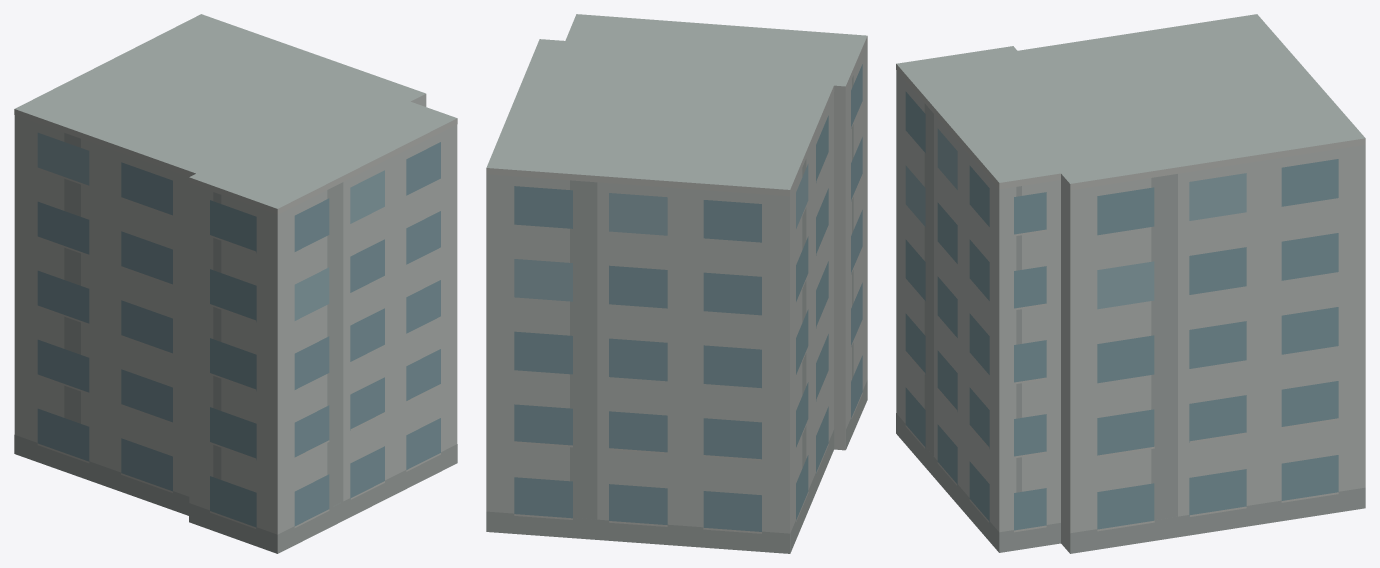
The model's file is survey-upis-32863971.glb.
The picture shows the model from 3 angles, left to right: view 1: azimuth 30°, elevation 25°; view 2: azimuth 150°, elevation 25°; view 3: azimuth 270°, elevation 25°; orthographic projection. The views are drawn at different scales.
Parts seen in each view (by area): view 1: survey-upis-32863971.tmp; view 2: survey-upis-32863971.tmp; view 3: survey-upis-32863971.tmp.
Part boxes in pixels (box(x1,y1,x2,y2)): survey-upis-32863971.tmp: box(14, 14, 457, 553); survey-upis-32863971.tmp: box(486, 14, 867, 553); survey-upis-32863971.tmp: box(896, 14, 1365, 553).
Size of the model in its own units: 13.65 by 13.85 by 15.94.
